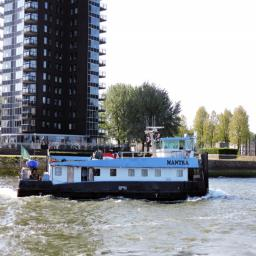tugboat: (16, 126, 212, 206)
